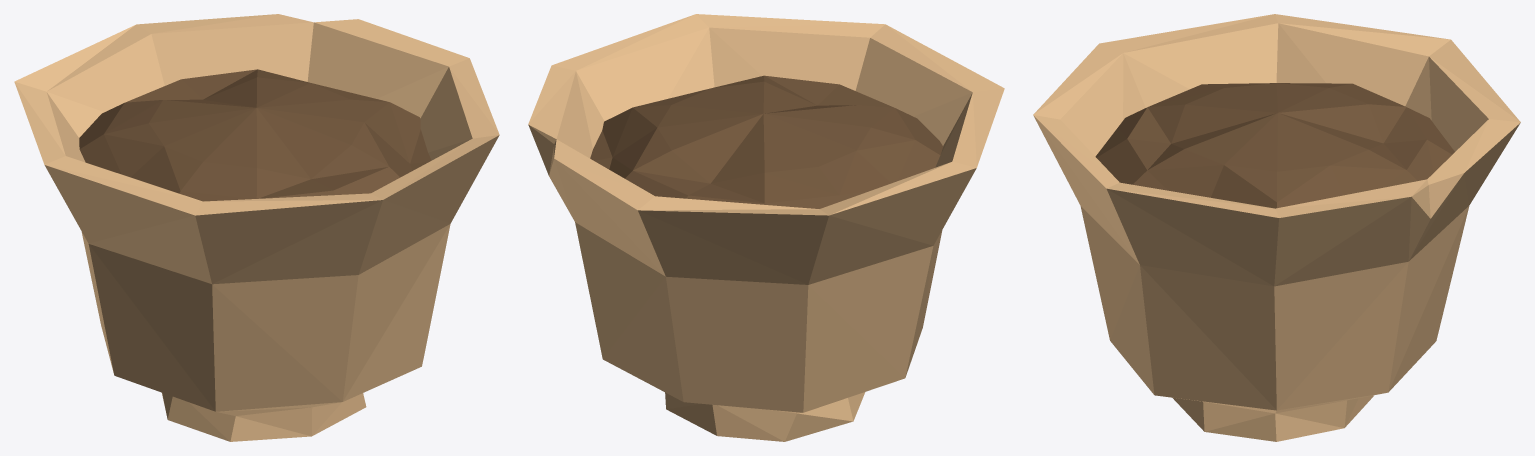
Rendered from SFHW_Vassel_018.fbx.
3 views of the same model, side by side, from view 1: azimuth 30°, elevation 25°; view 2: azimuth 150°, elevation 25°; view 3: azimuth 270°, elevation 25° (orthographic).
Parts seen in each view (by area): view 1: SFHW_Vassel_018; view 2: SFHW_Vassel_018; view 3: SFHW_Vassel_018.
Part boxes in pixels (left/top/right/bottom): SFHW_Vassel_018: left=14, top=14, right=499, bottom=441; SFHW_Vassel_018: left=528, top=14, right=1004, bottom=441; SFHW_Vassel_018: left=1033, top=14, right=1520, bottom=441.
Size of the model in its own units: 37.86 by 24.5 by 38.09.
